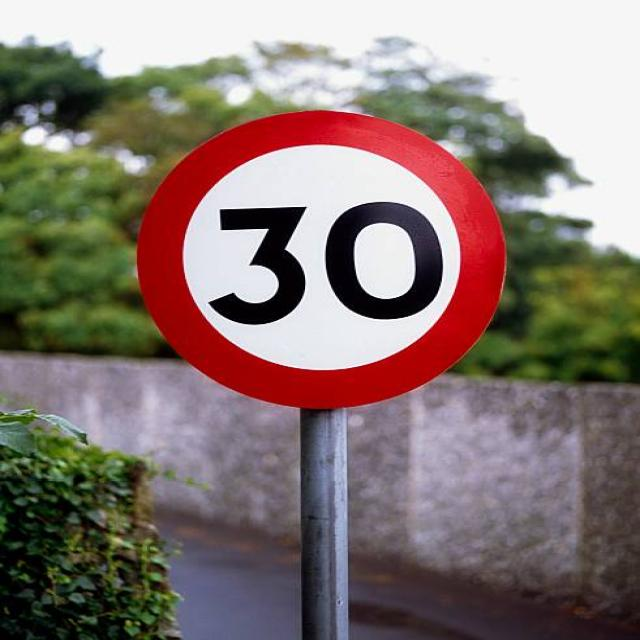Speed limit 30: (134, 108, 511, 413)
